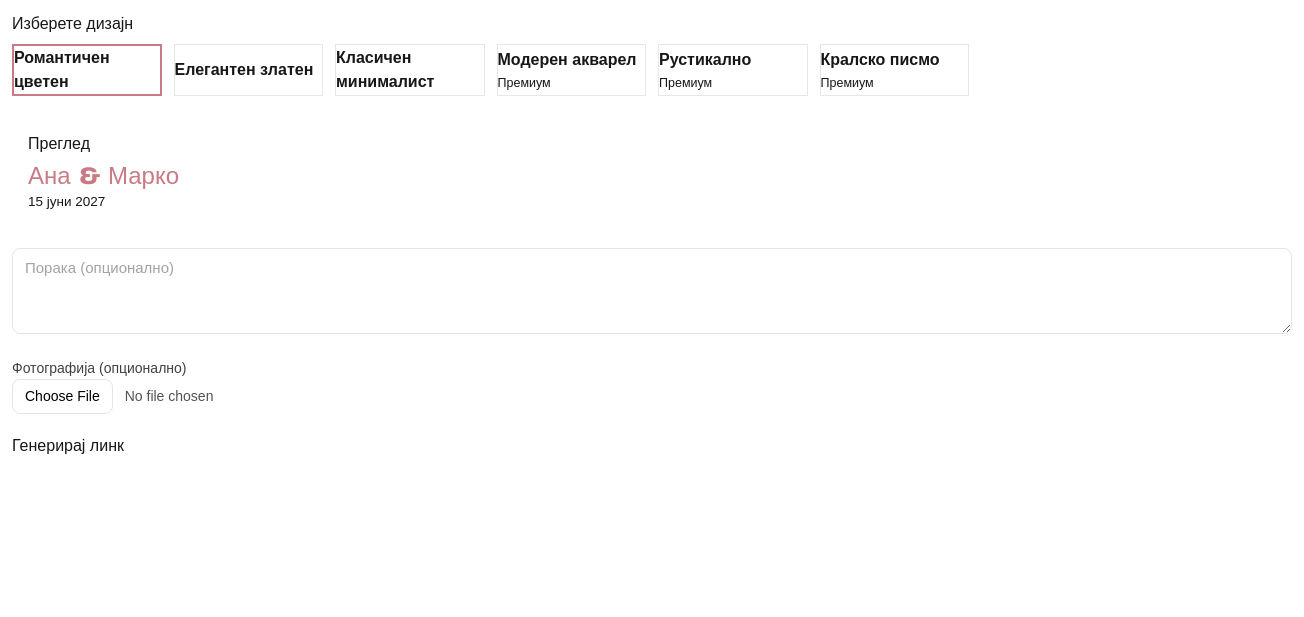
InvitationClient › lets the couple pick a template, add a message, and generate a link
Click the button "Елегантен златен" at coordinates (248, 70), box [174,44,323,96]
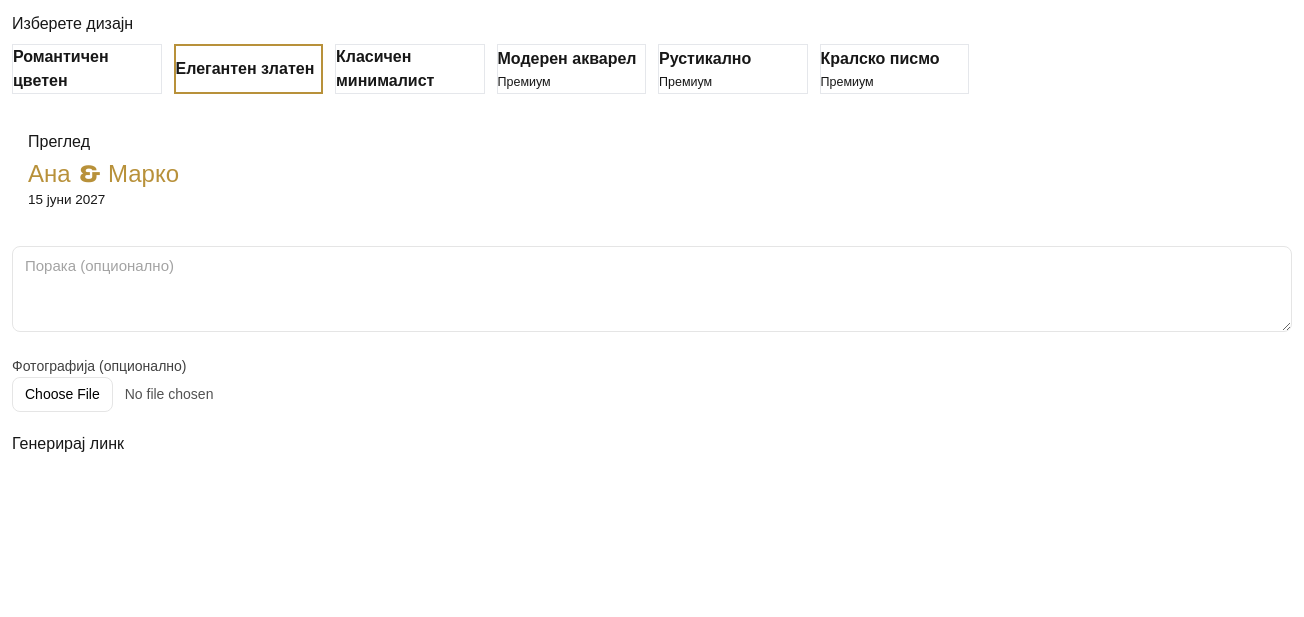
Type "Се радуваме!" into the text box with placeholder "Порака (опционално)" at coordinates (652, 289), box [12,246,1292,332]
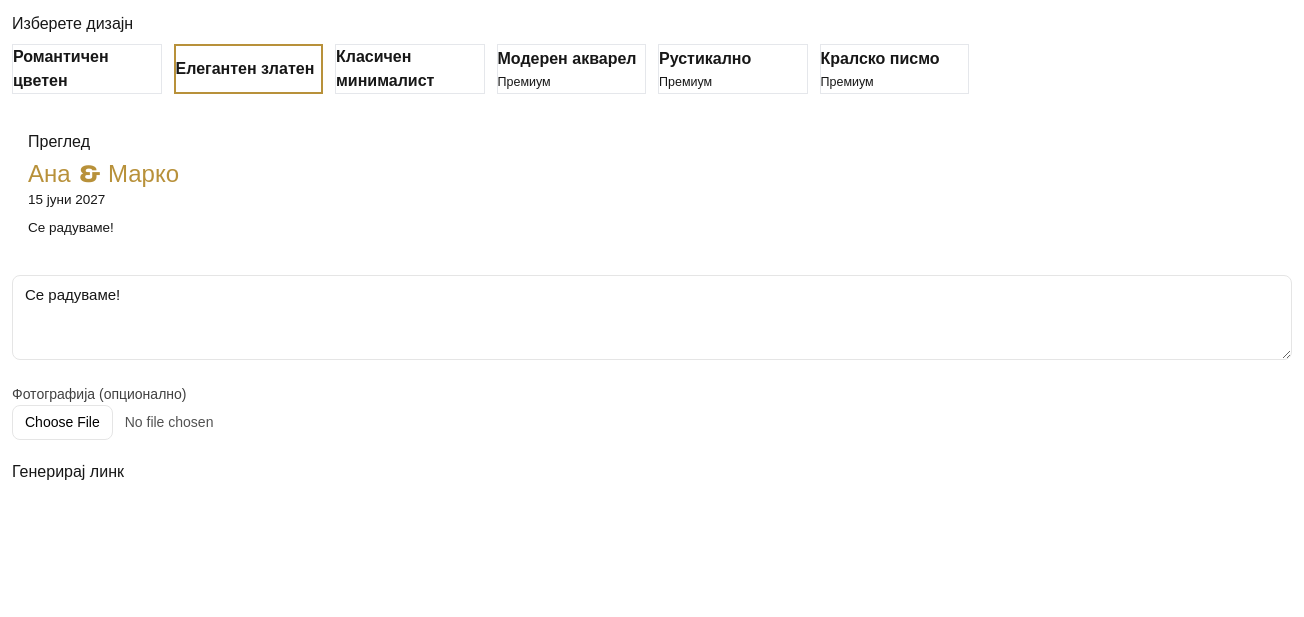
Click the button "Генерирај линк" at coordinates (68, 472), box [12,460,124,484]
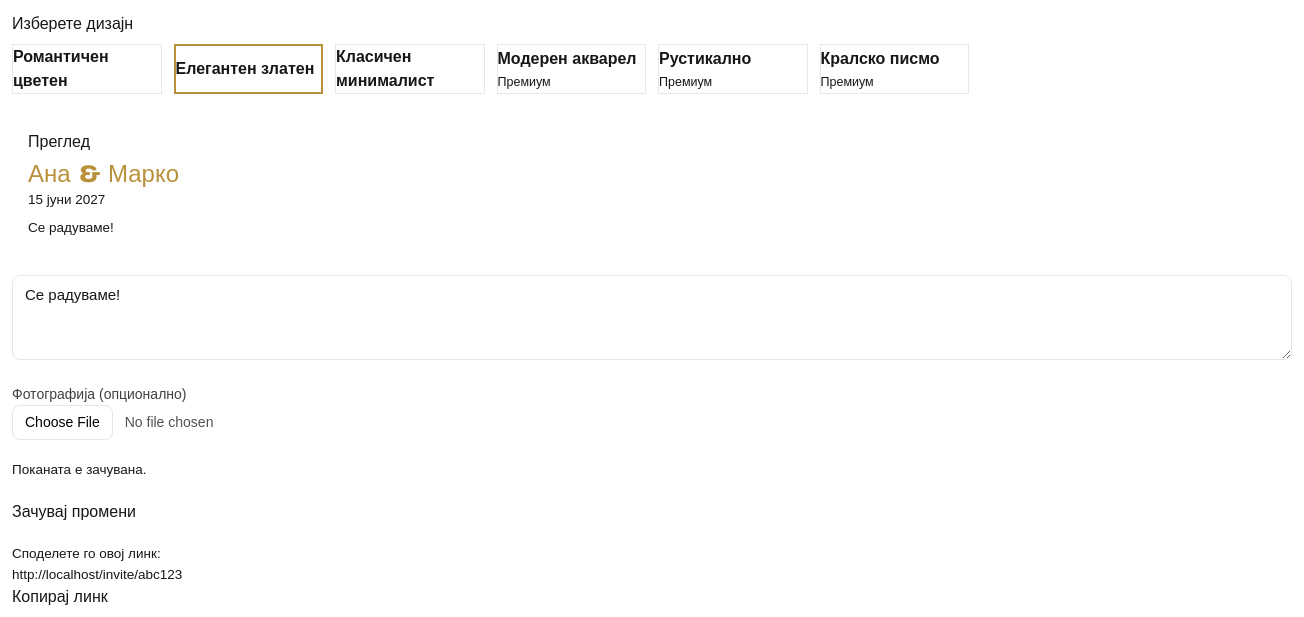
Now the text "http://localhost/invite/abc123" is shown, box [12,566,182,582]
